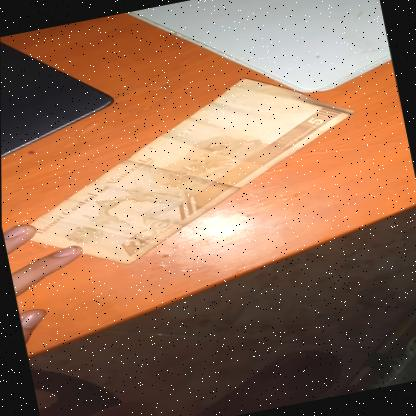five-back-vef: (0, 57, 375, 282)
